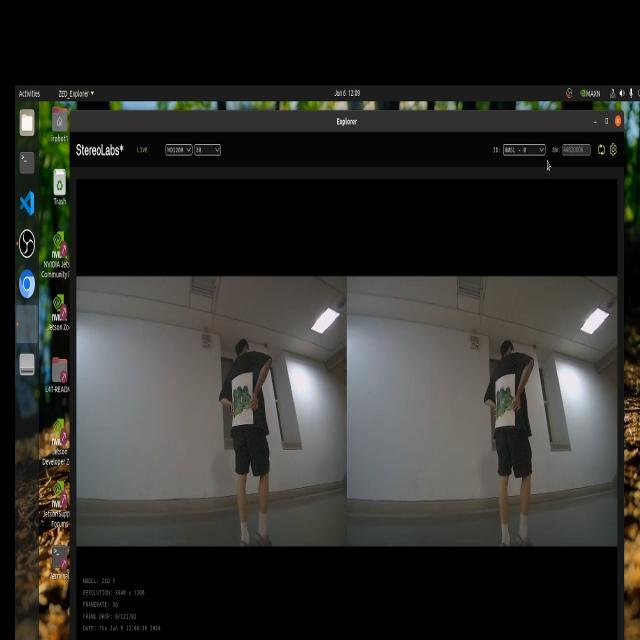green: (491, 378, 519, 416), (226, 385, 259, 414)
